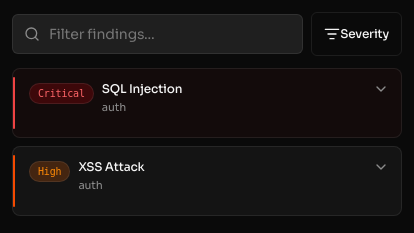
Test: FindingsTable › shows 'No matching findings' when search filters everything out
This screenshot has width=414, height=233.
Type "zzz_nonexistent_pattern_zzz" into the field with placeholder "Filter findings..." at (158, 34), box [12,14,303,54]
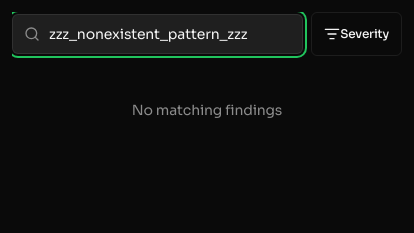
Expected: the text "No matching findings" is shown, [132,100,282,120]
